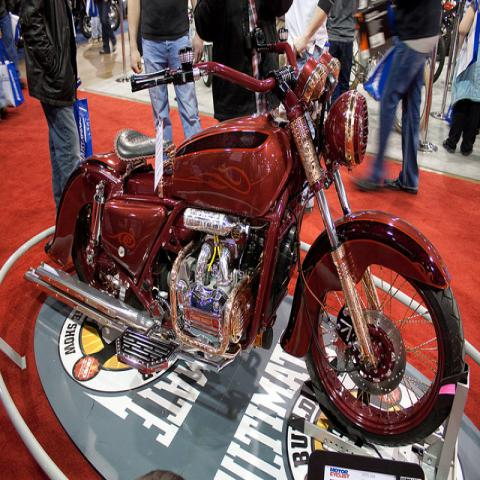motorcycle: (20, 26, 466, 449)
